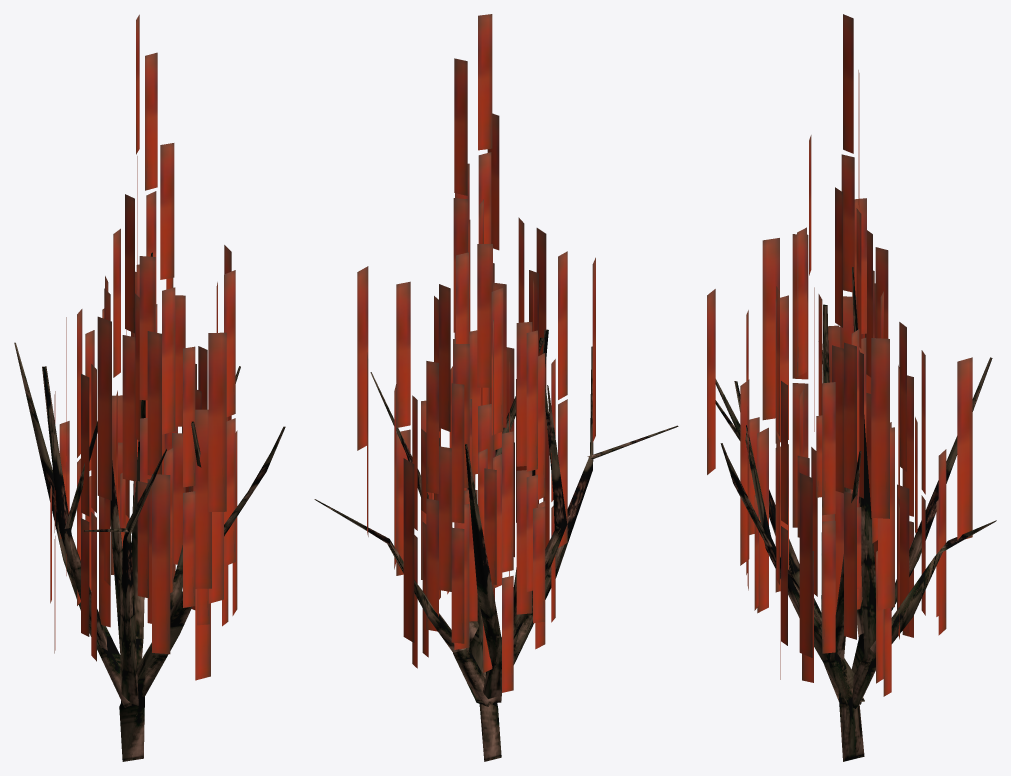
Rendered from RedTree_8.gltf.
3 renders of one model, left to right at view 1: azimuth 30°, elevation 25°; view 2: azimuth 150°, elevation 25°; view 3: azimuth 270°, elevation 25°, orthographic.
Parts seen in each view (by area): view 1: RedTree_8; view 2: RedTree_8; view 3: RedTree_8.
Part boxes in pixels (bbox=[...]): RedTree_8: bbox=[14, 14, 285, 761]; RedTree_8: bbox=[314, 14, 678, 761]; RedTree_8: bbox=[707, 14, 996, 761].
Size of the model in its own units: 1.68 by 5.1 by 1.8.
89 materials, 89 textured.
